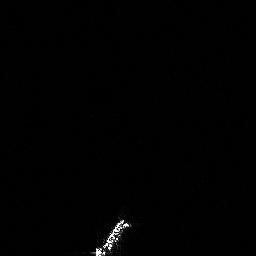ship: (91, 215, 131, 256)
